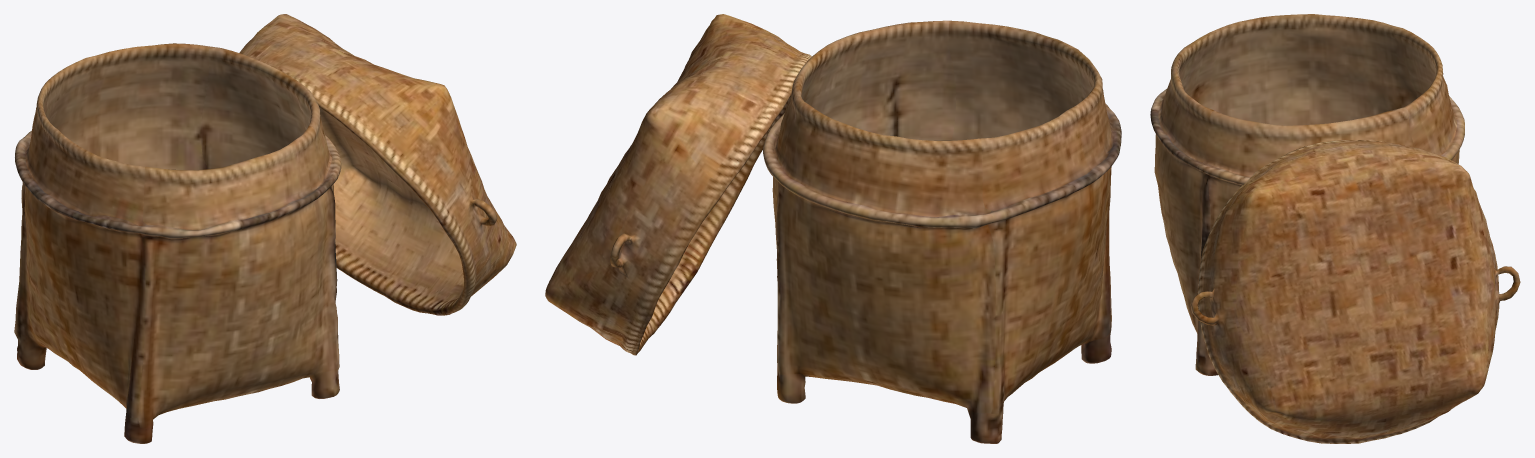
Rendered from wicker_basket_02.glb.
3 views of the same model, side by side, from view 1: azimuth 30°, elevation 25°; view 2: azimuth 150°, elevation 25°; view 3: azimuth 270°, elevation 25° (orthographic). The views are drawn at different scales.
Visible parts, largest first — view 1: wicker_basket_02_base, wicker_basket_02_lid; view 2: wicker_basket_02_base, wicker_basket_02_lid; view 3: wicker_basket_02_lid, wicker_basket_02_base.
Part boxes in pixels (box(x1,y1,x2,y2)): wicker_basket_02_base: box(14, 43, 341, 443); wicker_basket_02_lid: box(239, 14, 516, 315); wicker_basket_02_base: box(763, 20, 1121, 443); wicker_basket_02_lid: box(545, 14, 811, 355); wicker_basket_02_lid: box(1190, 140, 1520, 443); wicker_basket_02_base: box(1150, 14, 1464, 375).
Bounding box in the file's own units: 0.3469 × 0.2005 × 0.2544.
Materials: 1 (1 with a texture image).
